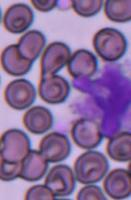D: (72, 62, 130, 138)
